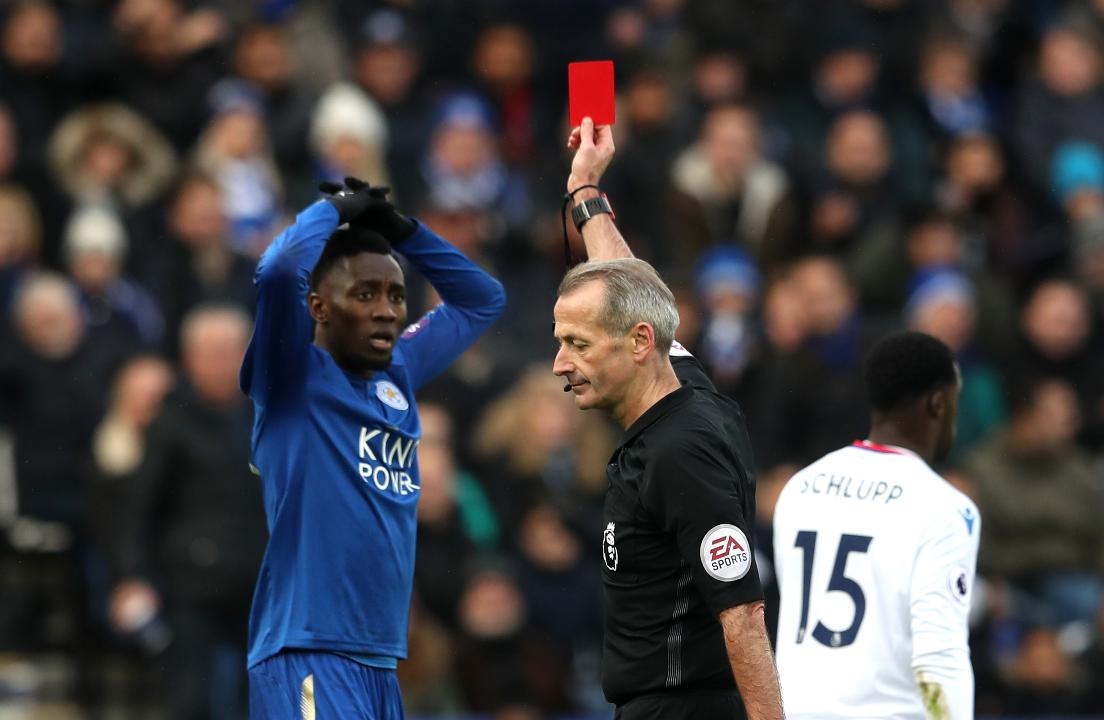red_card: (542, 52, 633, 186)
